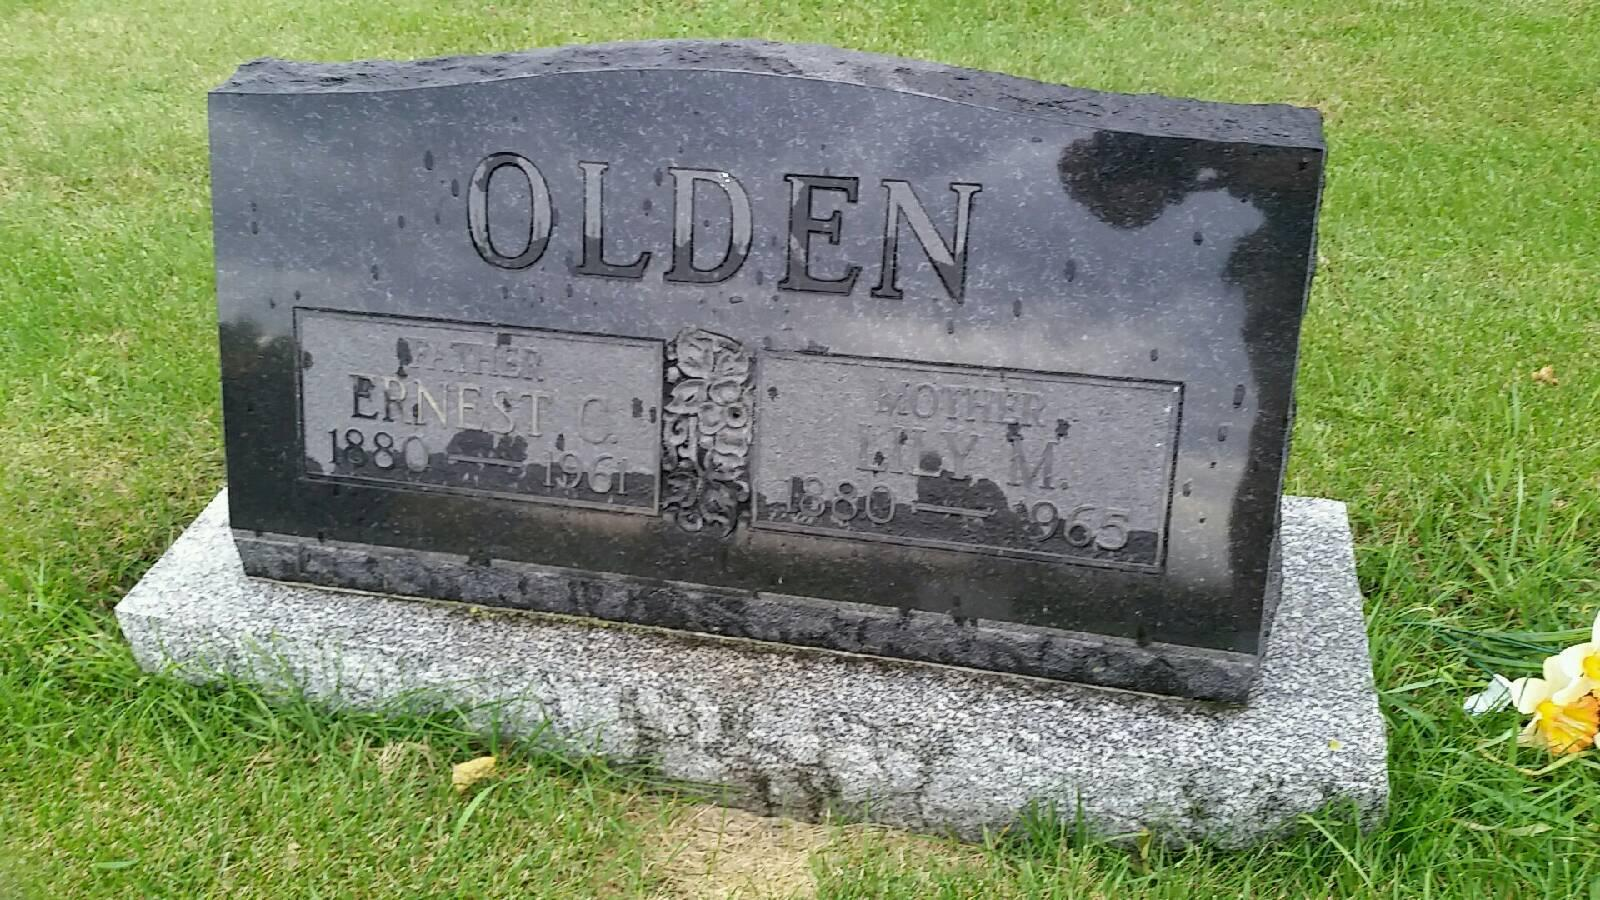upright: (111, 4, 1401, 862)
